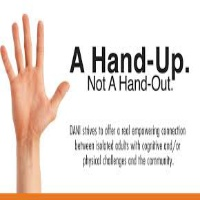ring: (11, 20, 25, 75)
